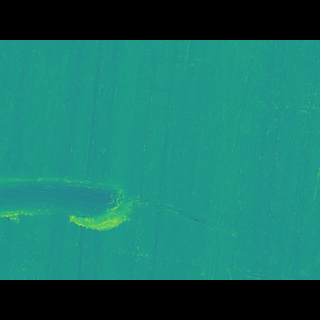Loch: (132, 185, 312, 249), (0, 168, 136, 214)
